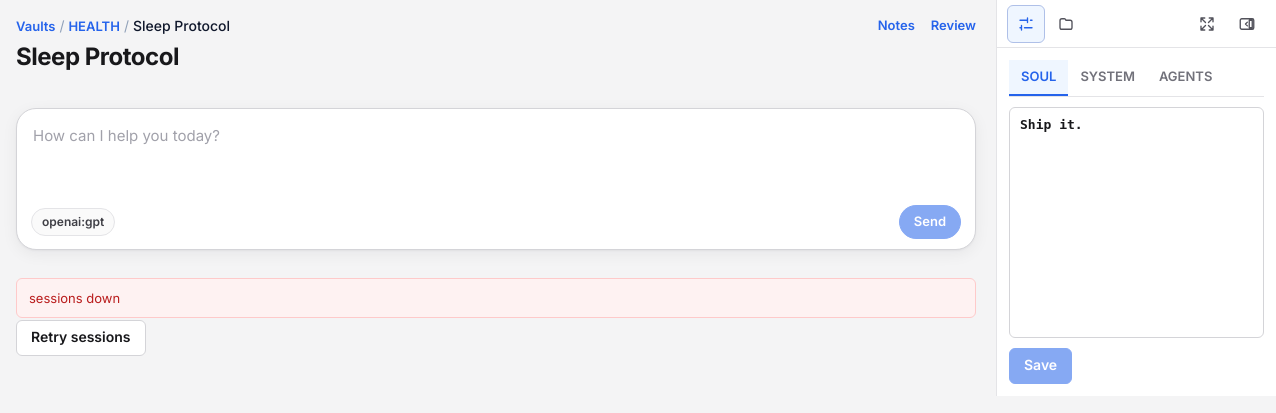
Test: ProjectHubPage › keeps composer when sessions list fails and shows list retry
The width and height of the screenshot is (1276, 413).
Expected: the text box named "message" is shown, 31,121 -> 961,196
Expected: the message reads "sessions down", 29,290 -> 120,306
What coordinates should you click on to do the following:
click the button "Retry sessions"
I would click on:
 (81, 338)
Its box is 16,320 -> 146,356.
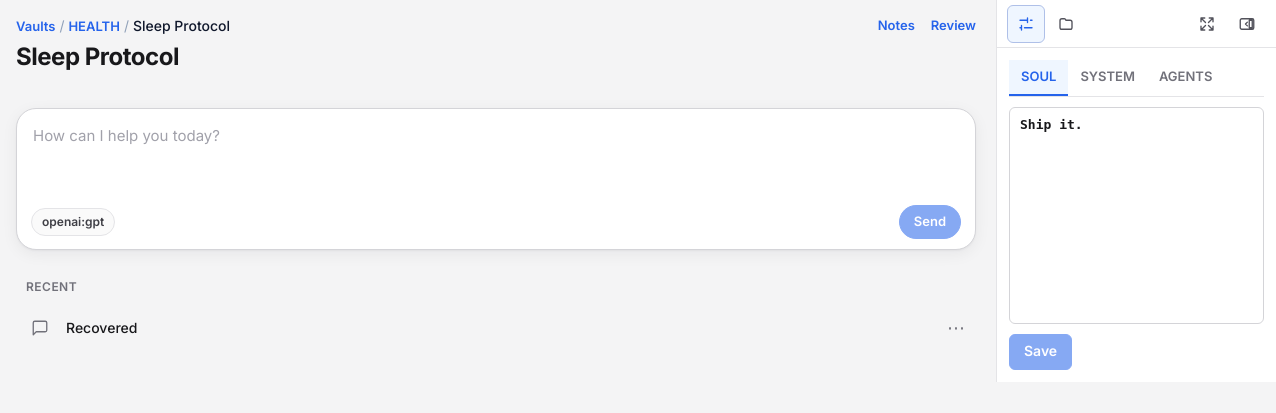
Now the button "Recovered" is shown, box 16,306 -> 936,350
